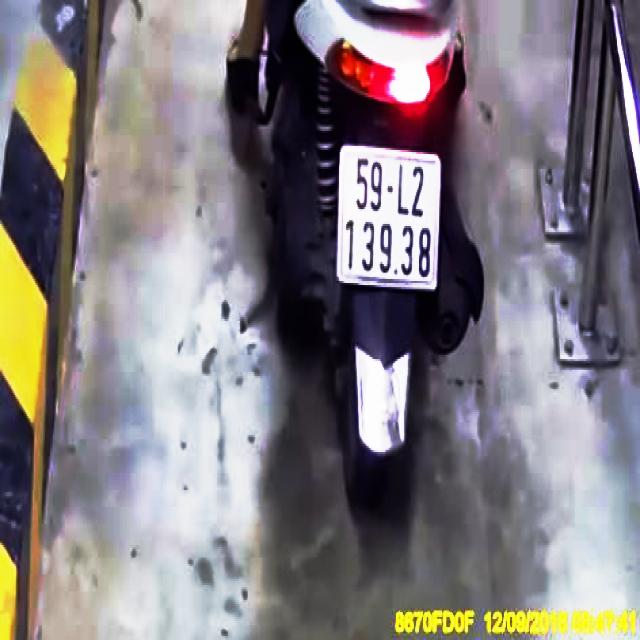license_plate: (338, 146, 441, 284)
